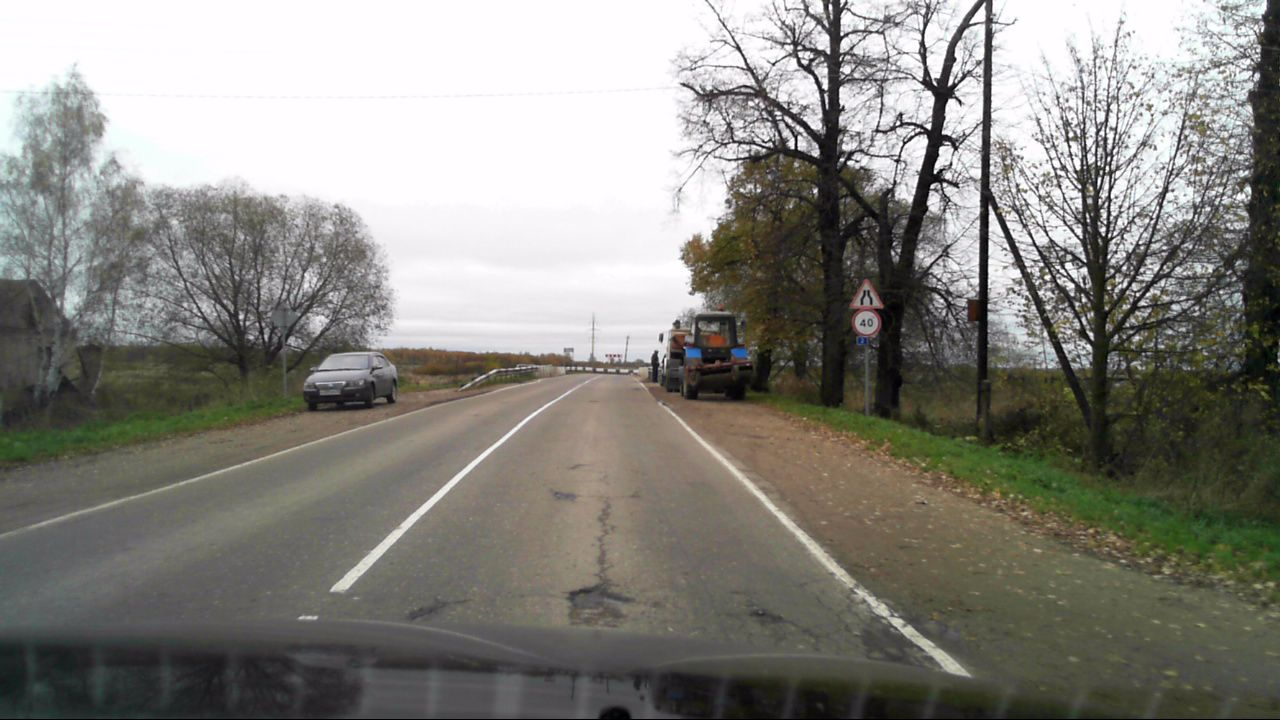speed_warning_40: (852, 311, 880, 336)
